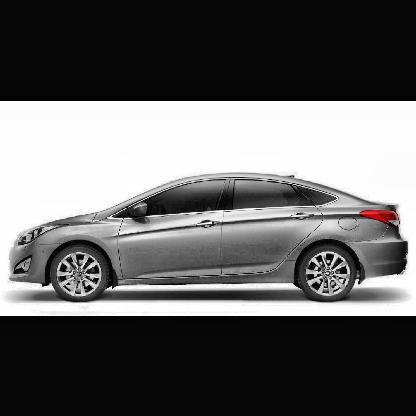Hyundai Azera Sedan 2012: (9, 172, 412, 304)
